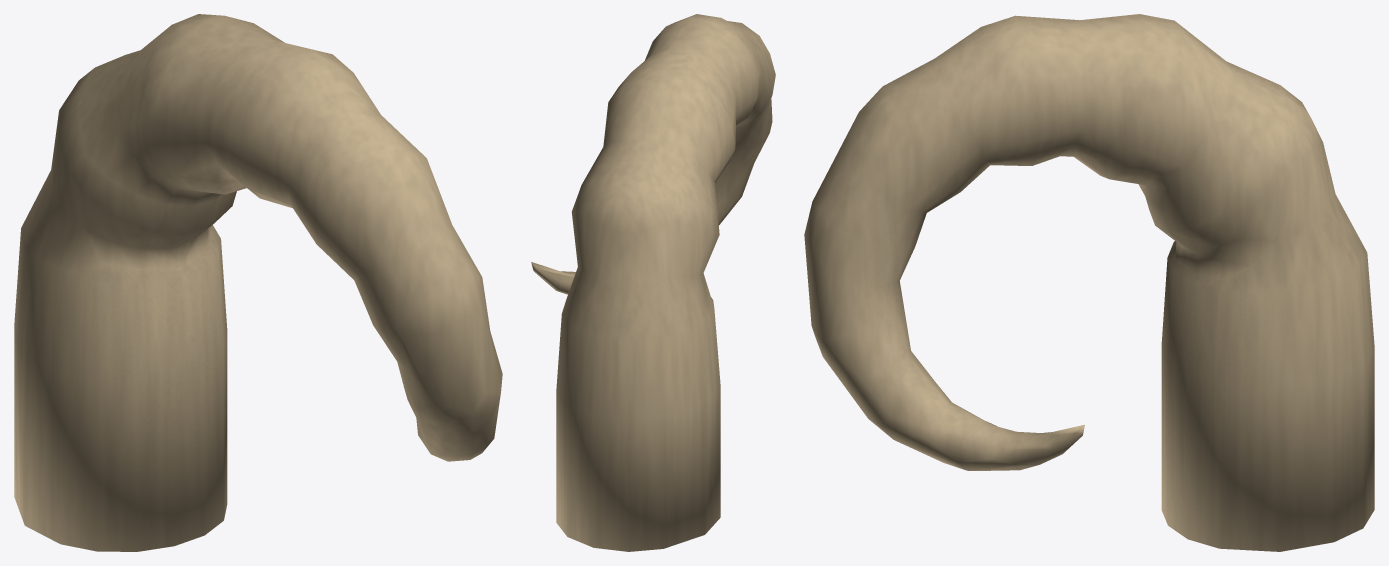
The model's file is cpart_horn_ram.glb.
3 views of the same model, side by side, from view 1: azimuth 30°, elevation 25°; view 2: azimuth 150°, elevation 25°; view 3: azimuth 270°, elevation 25° (orthographic). The views are drawn at different scales.
Parts seen in each view (by area): view 1: HornRam; view 2: HornRam; view 3: HornRam.
Boxes of the visible parts, x1,y1,x2,y2 form: HornRam: [14, 14, 502, 551]; HornRam: [531, 14, 775, 551]; HornRam: [804, 14, 1374, 551].
Bounding box in the file's own units: 0.0832 × 0.1313 × 0.133.
1 material, 1 textured.
